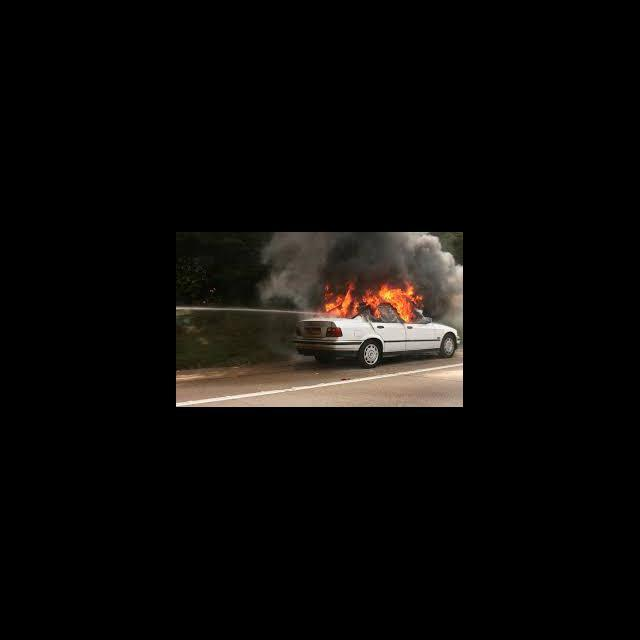Fire: (319, 279, 424, 325)
Smoke: (276, 234, 425, 281), (424, 232, 464, 328)
